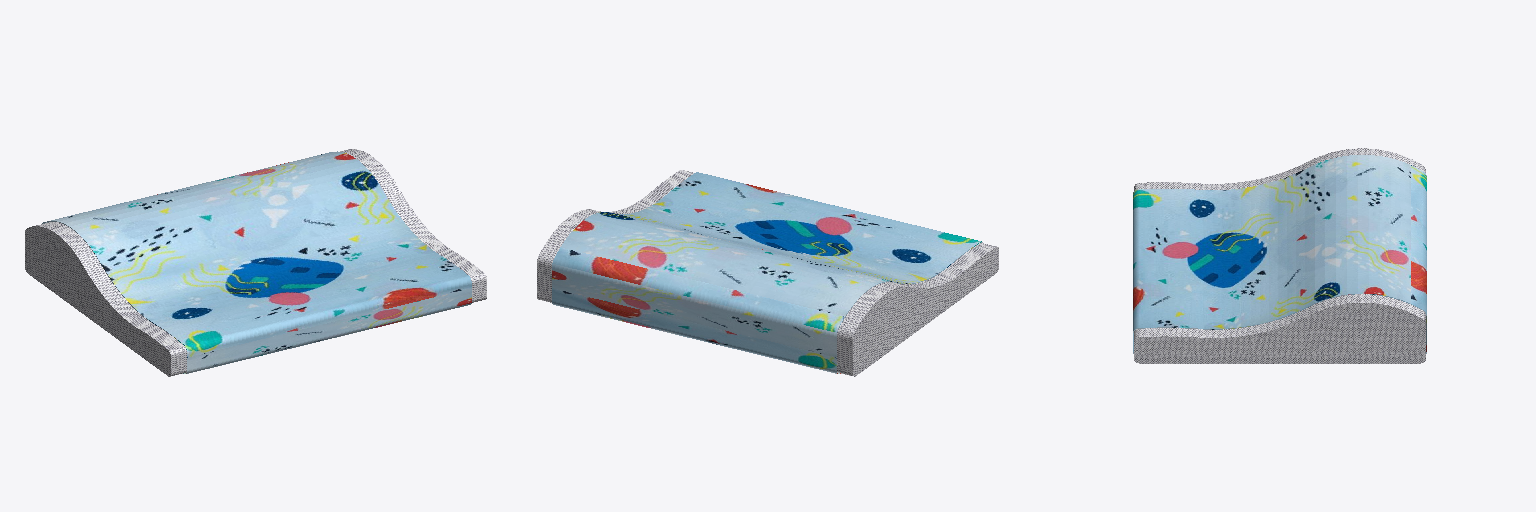
3 renders of one model, left to right at view 1: azimuth 30°, elevation 25°; view 2: azimuth 150°, elevation 25°; view 3: azimuth 270°, elevation 25°, orthographic.
Visible parts, largest first — view 1: pillow4; view 2: pillow4; view 3: pillow4.
Boxes of the visible parts, x1,y1,x2,y2 form: pillow4: [25, 149, 486, 376]; pillow4: [537, 170, 998, 376]; pillow4: [1133, 148, 1426, 363].
Size of the model in its own units: 5.67 by 1.09 by 4.58.
Materials: 2 (2 with a texture image).